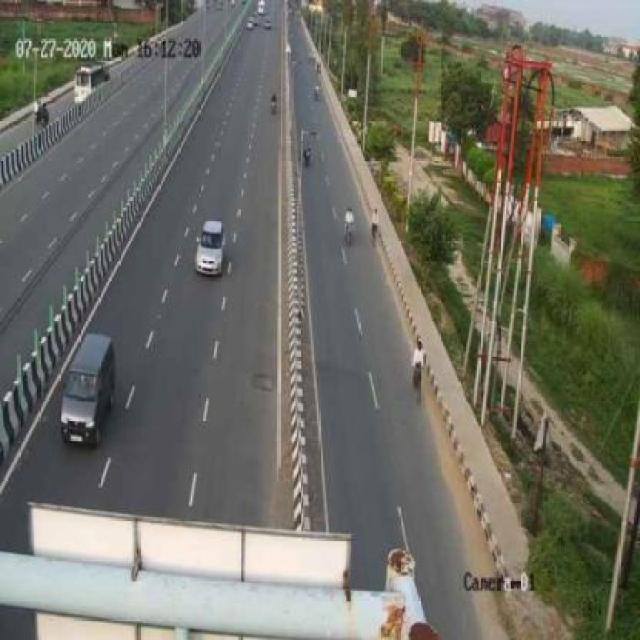car: (54, 328, 121, 450), (186, 215, 229, 277)
